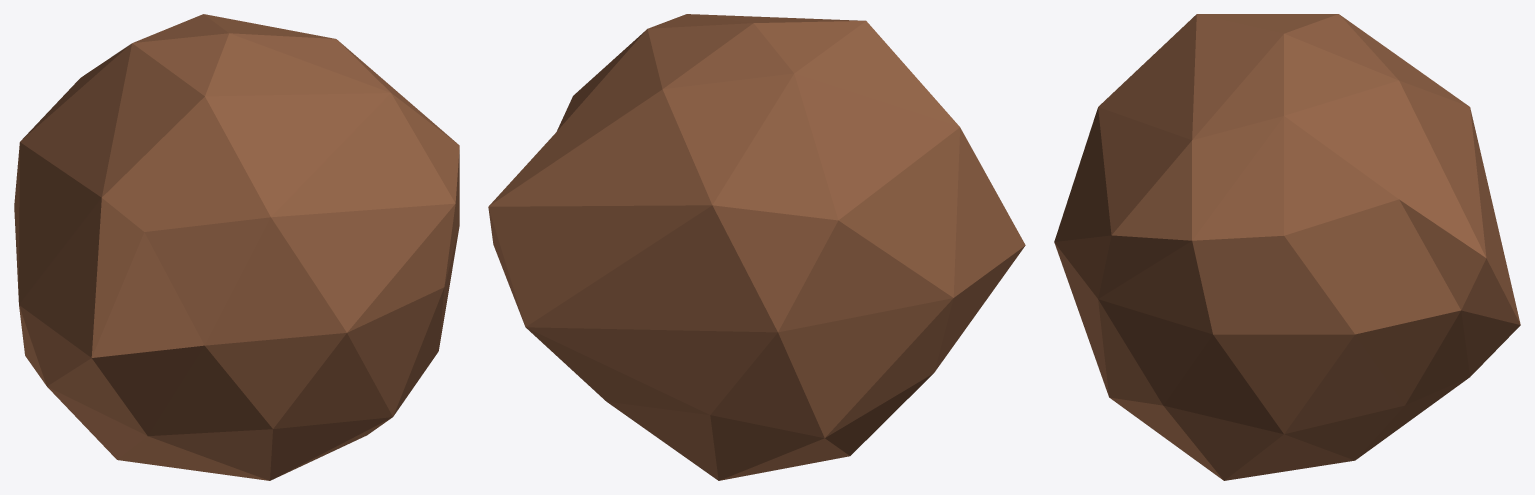
Rendered from rock-DIFMy24-.glb.
3 views of the same model, side by side, from view 1: azimuth 30°, elevation 25°; view 2: azimuth 150°, elevation 25°; view 3: azimuth 270°, elevation 25° (orthographic). The views are drawn at different scales.
Visible parts, largest first — view 1: rock; view 2: rock; view 3: rock.
Part boxes in pixels (x1,y1,x2,y2): rock: [14, 14, 459, 480]; rock: [488, 14, 1025, 480]; rock: [1054, 14, 1520, 480].
Size of the model in its own units: 1.96 by 2 by 2.03.
